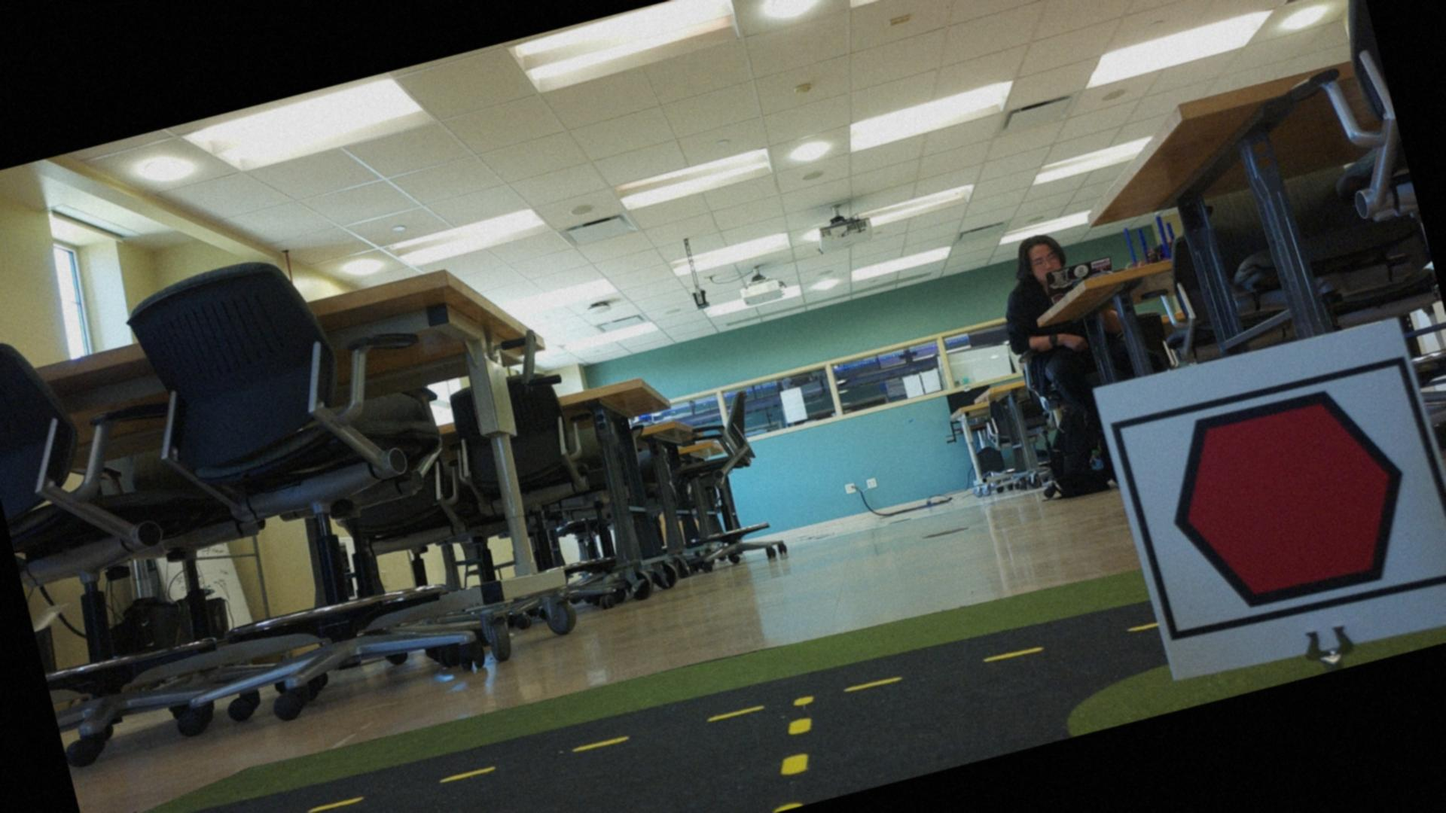stop: (1128, 361, 1445, 639)
yellowline: (767, 693, 829, 784)
